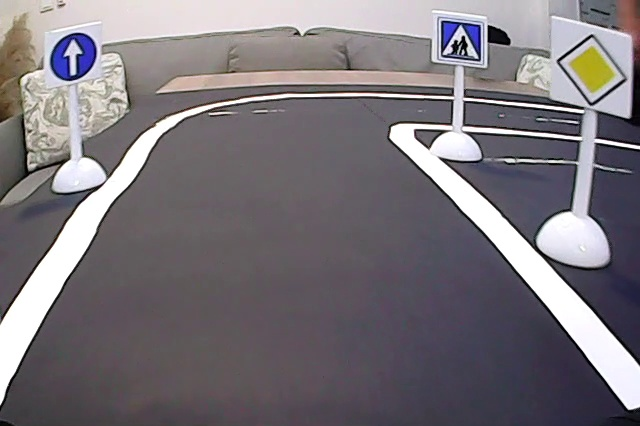school crossing: (434, 12, 492, 69)
